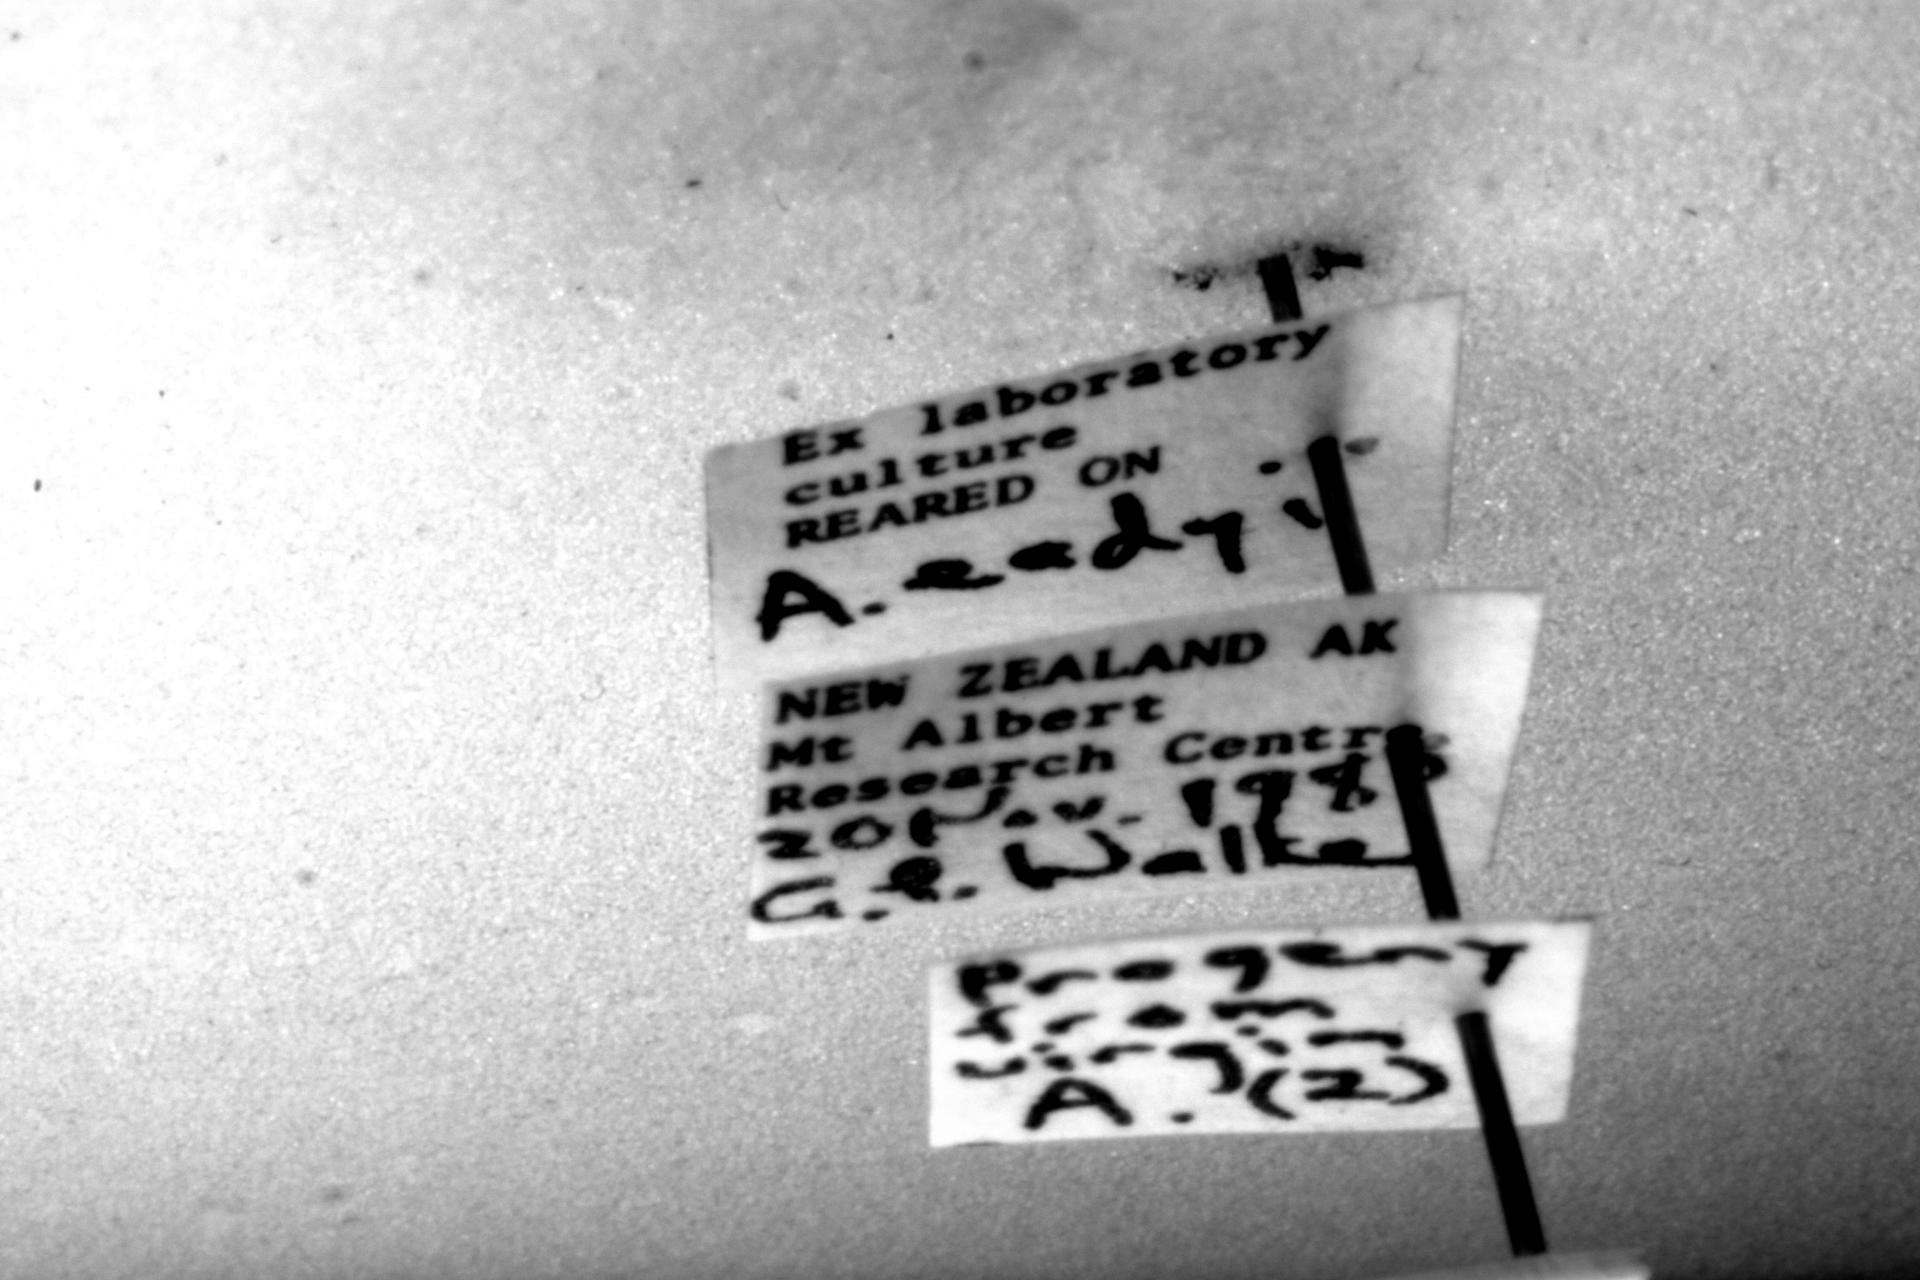hand_label: (930, 919, 1594, 1147)
mixed_label: (706, 293, 1463, 694), (750, 589, 1546, 937)
